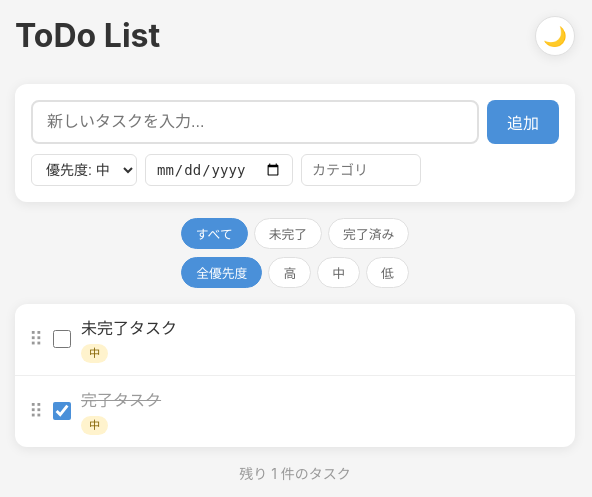
Test: App › filters todos by status
The width and height of the screenshot is (592, 497).
Expected: the text "未完了タスク" is shown, left=81, top=318, right=177, bottom=338
Expected: the text "完了タスク" is shown, left=81, top=390, right=161, bottom=410
Click the button "未完了" at (288, 234), box left=254, top=218, right=322, bottom=249
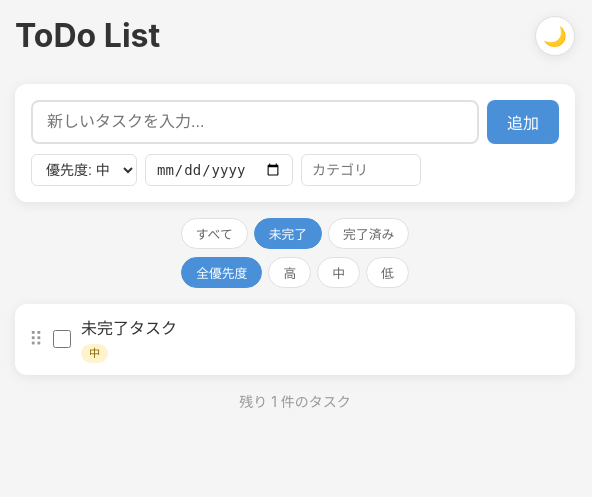
Expected: the text "未完了タスク" is shown, left=81, top=318, right=177, bottom=338
Click the button "完了済み" at (369, 234), box left=328, top=218, right=409, bottom=249
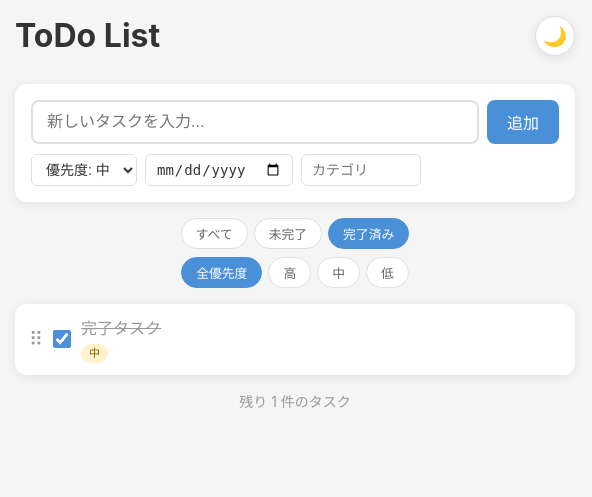
Expected: the text "完了タスク" is shown, left=81, top=318, right=161, bottom=338
Now the text "未完了タスク" is gone
Click the button "すべて" at (214, 234), box left=181, top=218, right=248, bottom=249
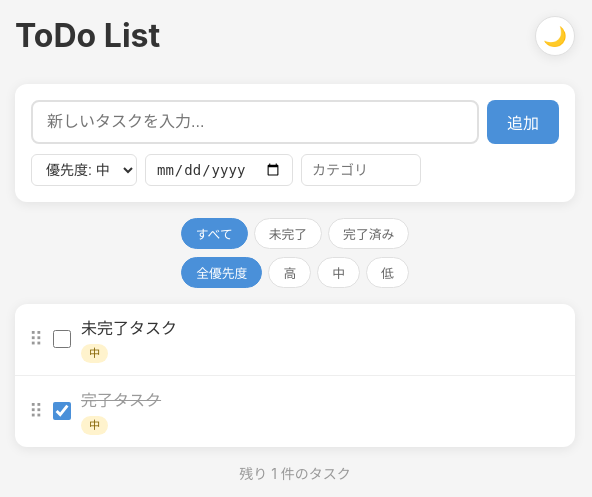
Now the text "完了タスク" is shown, box left=81, top=390, right=161, bottom=410
Now the text "未完了タスク" is shown, box left=81, top=318, right=177, bottom=338
